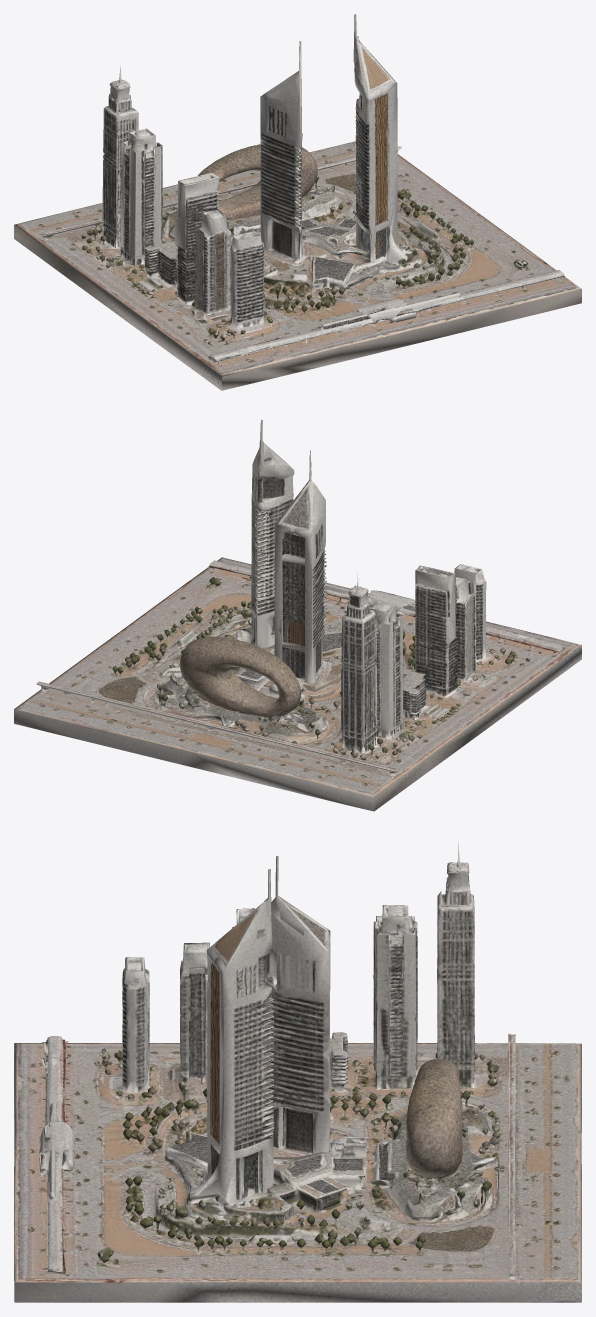
Rendered from dubai_szr_marble_far.glb.
3 views of the same model, one above another, from view 1: azimuth 30°, elevation 25°; view 2: azimuth 150°, elevation 25°; view 3: azimuth 270°, elevation 25° (orthographic). The views are drawn at different scales.
Visible parts, largest first — view 1: dubai_szr_marble; view 2: dubai_szr_marble; view 3: dubai_szr_marble.
Boxes of the visible parts, x1,y1,x2,y2 form: dubai_szr_marble: (14,14,581,390); dubai_szr_marble: (14,420,581,811); dubai_szr_marble: (14,841,581,1302).
Bounding box in the file's own units: 1.91 × 1.28 × 1.9.
1 material, 1 textured.
